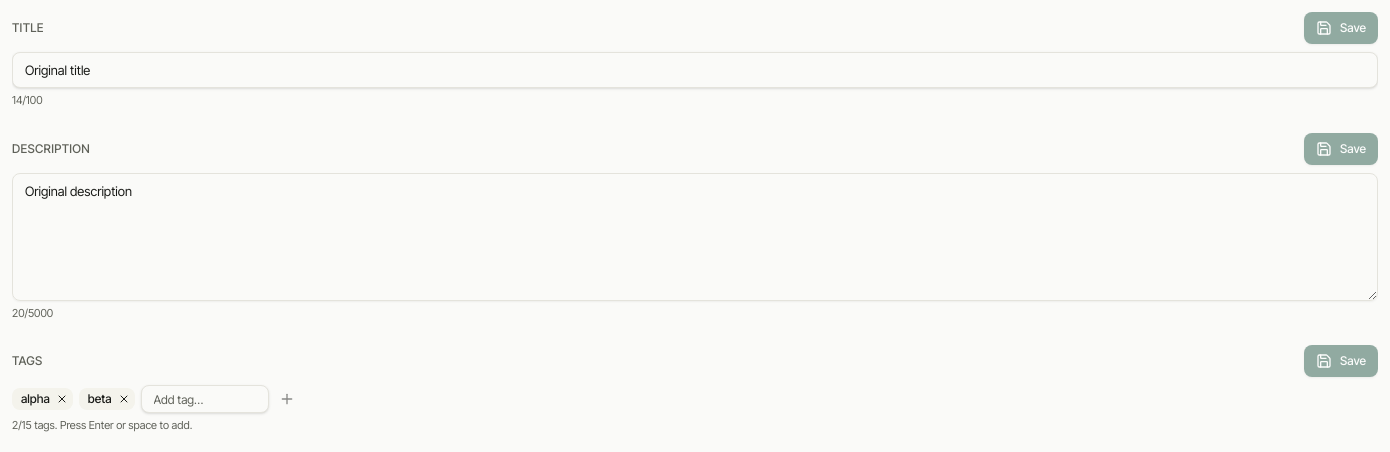
Test: VideoMetadataEditor › adds a tag on Enter and removes it on click
The width and height of the screenshot is (1390, 452).
In the field with test id "metadata-tag-input": (204, 399) [140,385,268,413], type "gamma"
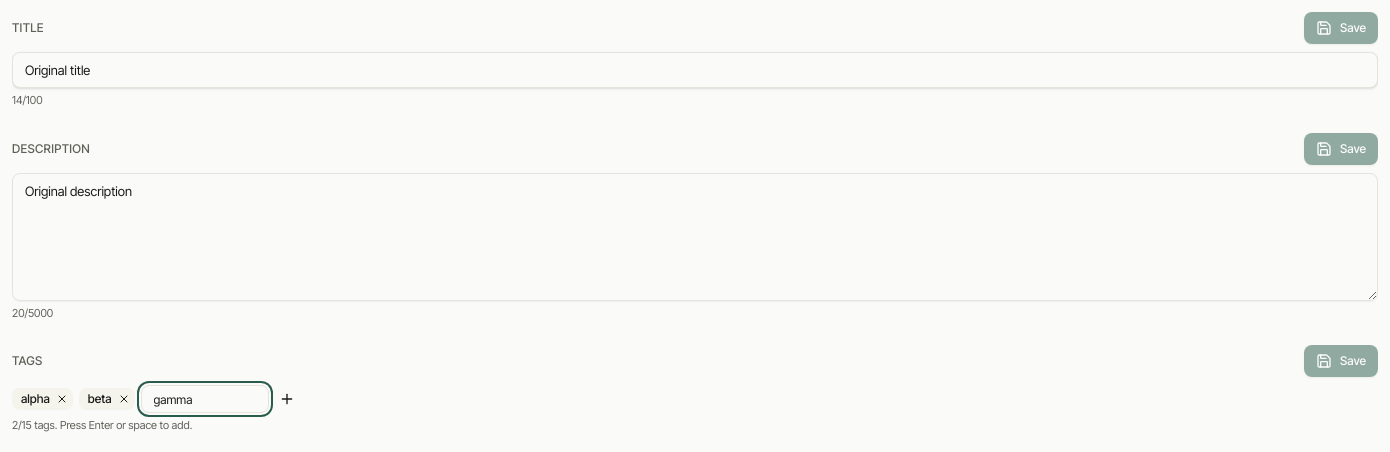
Press Enter
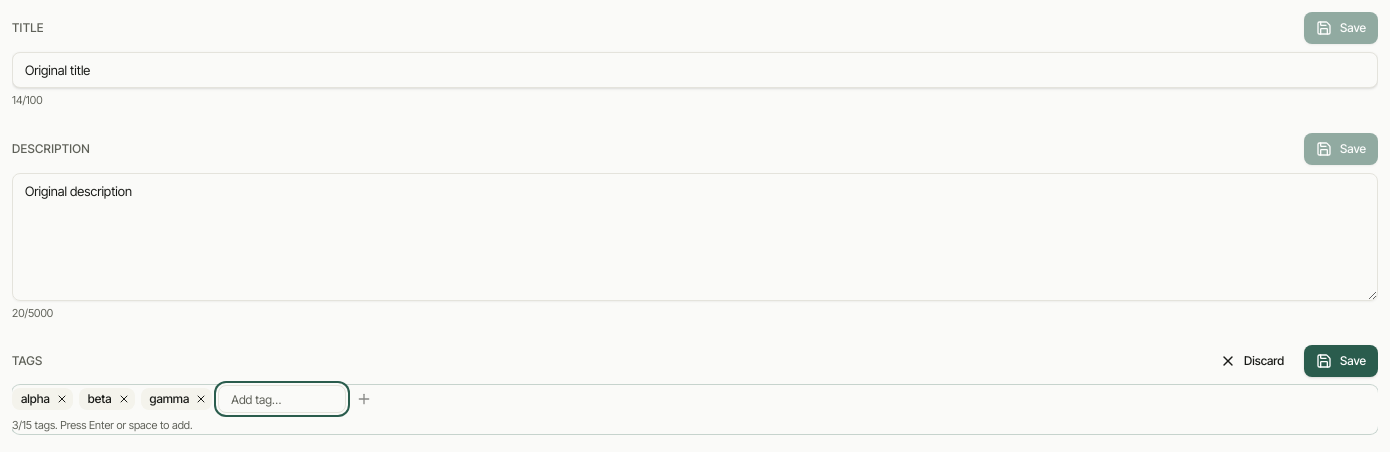
Expected: the text "gamma" is shown, [140,388,212,410]
# Click the X on the gamma chip to remove it.
Click the button named "Remove tag gamma": (201, 399) [195,393,207,405]
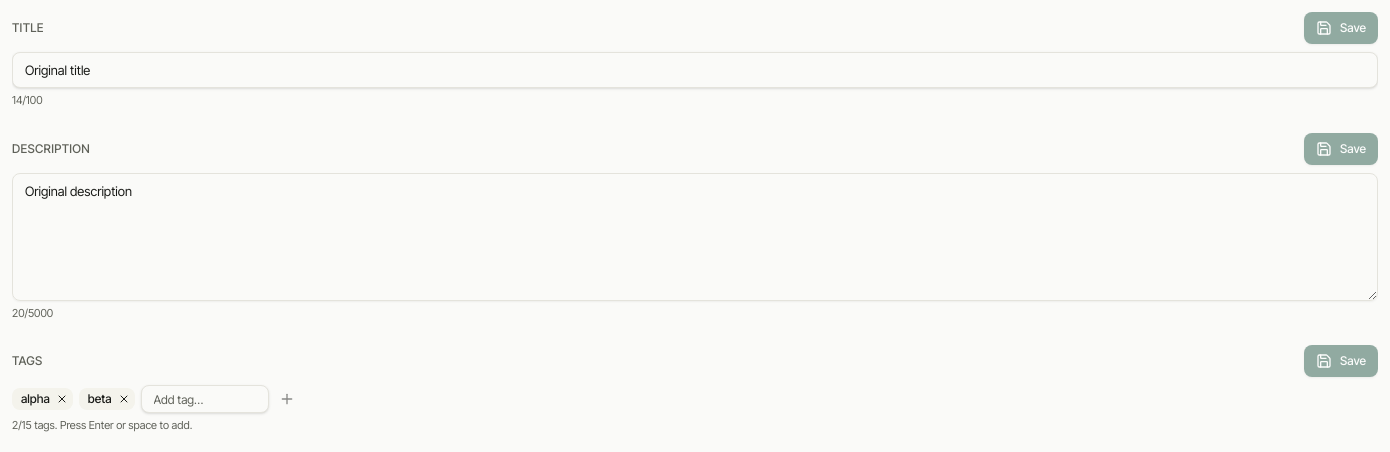
Expected: the text "gamma" is gone
